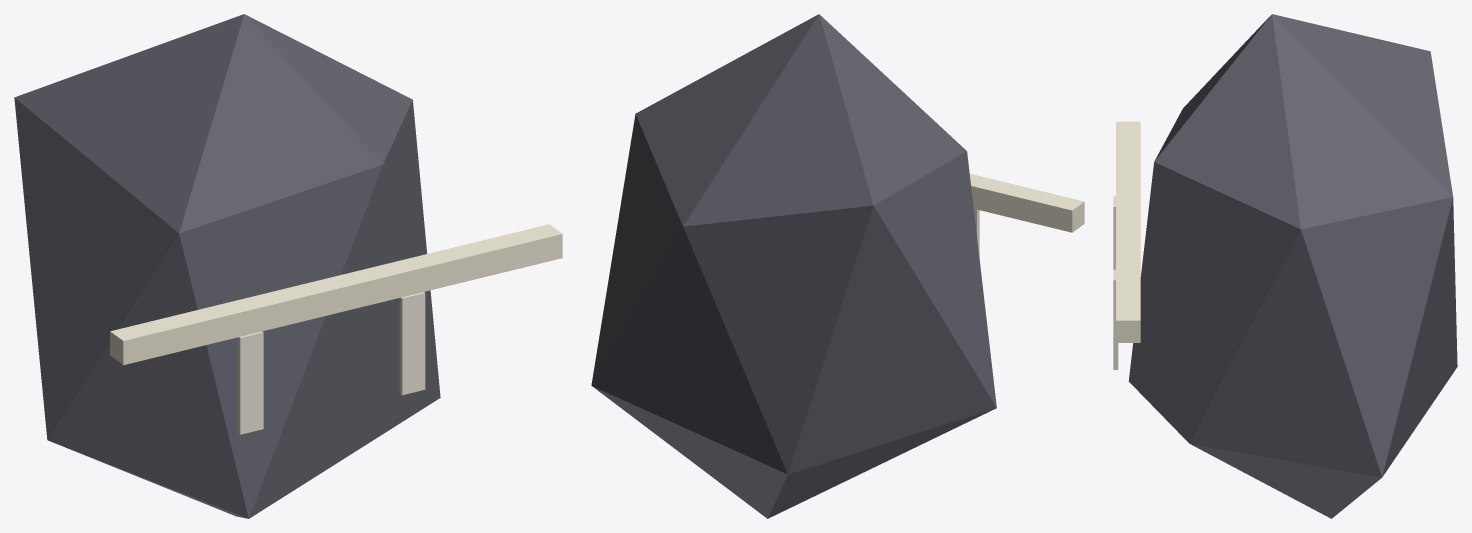
File: shimenawa_rock.fbx
3 views of the same model, side by side, from view 1: azimuth 30°, elevation 25°; view 2: azimuth 150°, elevation 25°; view 3: azimuth 270°, elevation 25° (orthographic). The views are drawn at different scales.
Parts seen in each view (by area): view 1: shimenawa_rock; view 2: shimenawa_rock; view 3: shimenawa_rock.
Boxes of the visible parts, x1,y1,x2,y2 form: shimenawa_rock: [14, 14, 562, 518]; shimenawa_rock: [591, 14, 1084, 518]; shimenawa_rock: [1113, 14, 1457, 518].
Bounding box in the file's own units: 1.9 × 2.2 × 1.39.
